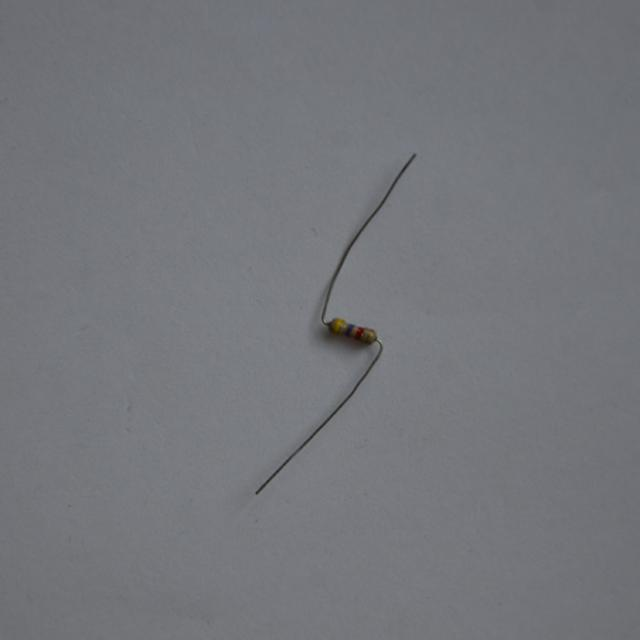gold: (364, 330, 373, 343)
red: (353, 327, 363, 337)
resistor: (315, 309, 382, 360)
violet: (344, 324, 353, 335)
yellow: (333, 318, 343, 334)
